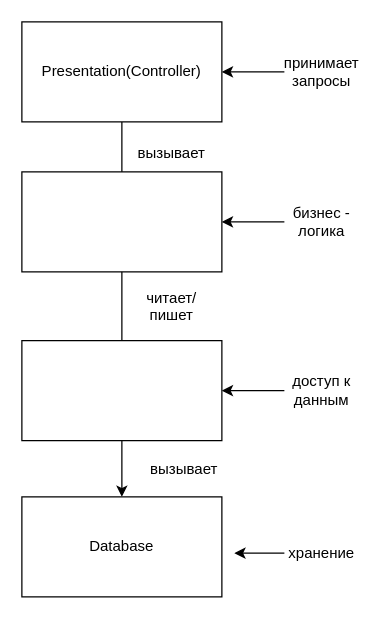
Some shapes in this 381 by 619 pixel diagram are drawn without their labels. Each missing label, with the centre of its shape:
"Repository-" goes at point (121, 390).
"Service" goes at point (121, 221).
